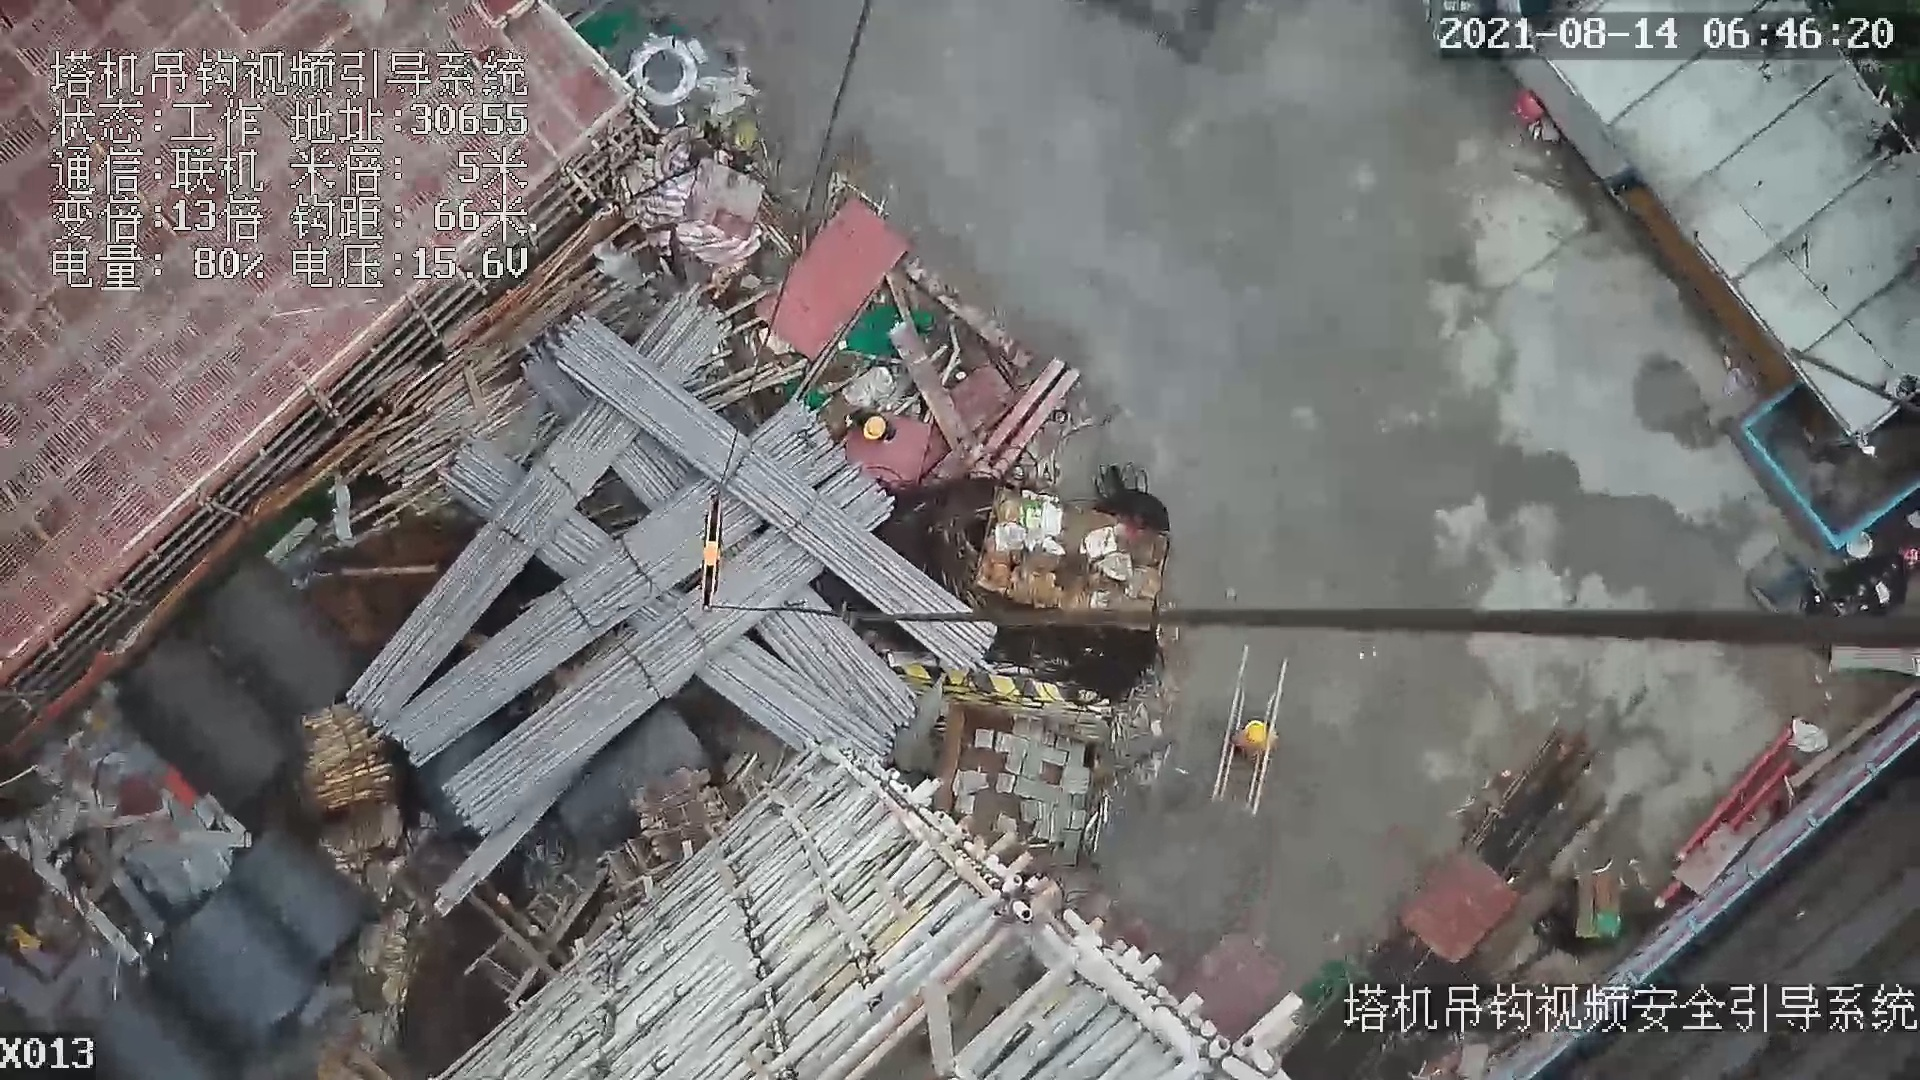helmet: (862, 416, 888, 441), (1249, 719, 1269, 748)
hook: (700, 499, 732, 617)
hopper: (1740, 369, 1910, 552)
person: (1214, 700, 1287, 782), (845, 406, 901, 446)
